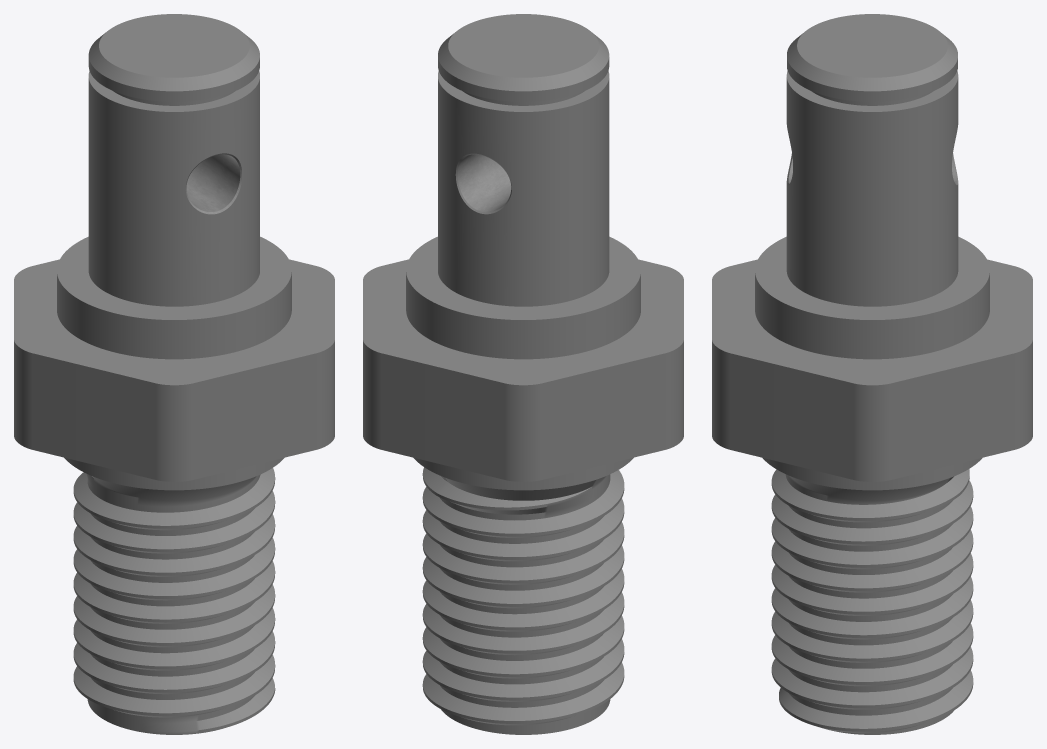
File: PiezaGrupillaTexture.fbx
3 renders of one model, left to right at view 1: azimuth 30°, elevation 25°; view 2: azimuth 150°, elevation 25°; view 3: azimuth 270°, elevation 25°, orthographic.
Parts seen in each view (by area): view 1: Cube; view 2: Cube; view 3: Cube.
Part boxes in pixels (x1,y1,x2,y2): Cube: [14, 14, 334, 734]; Cube: [363, 14, 683, 734]; Cube: [712, 14, 1032, 734].
Size of the model in its own units: 692 by 1393 by 621.
1 material, 1 textured.
